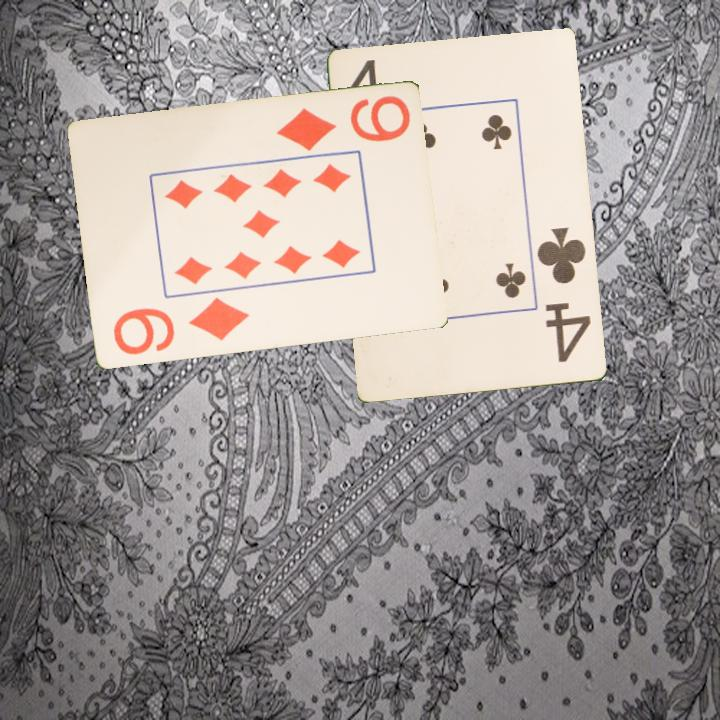4c: (534, 224, 594, 366)
9d: (109, 294, 252, 359), (273, 92, 413, 154)
